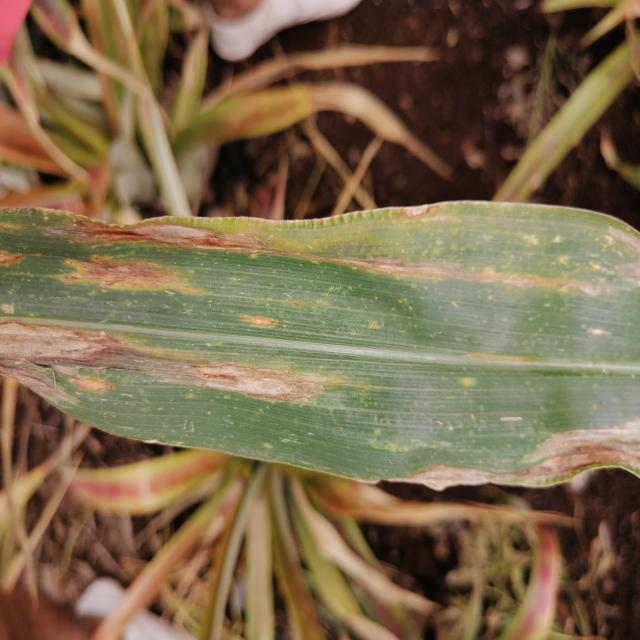Corn_Leaf_Blight: (0, 200, 640, 475)
